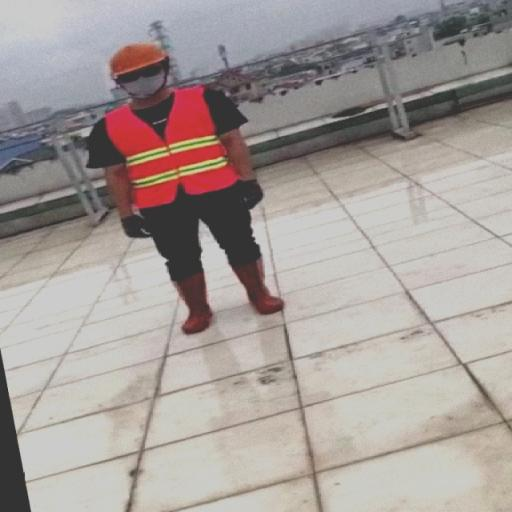Person: (76, 29, 294, 350)
boots: (168, 265, 221, 338), (228, 254, 290, 316)
gloves: (224, 173, 270, 211), (119, 209, 157, 242)
goggles: (114, 66, 175, 80)
helmet: (104, 39, 172, 80)
vest: (106, 83, 228, 206)
